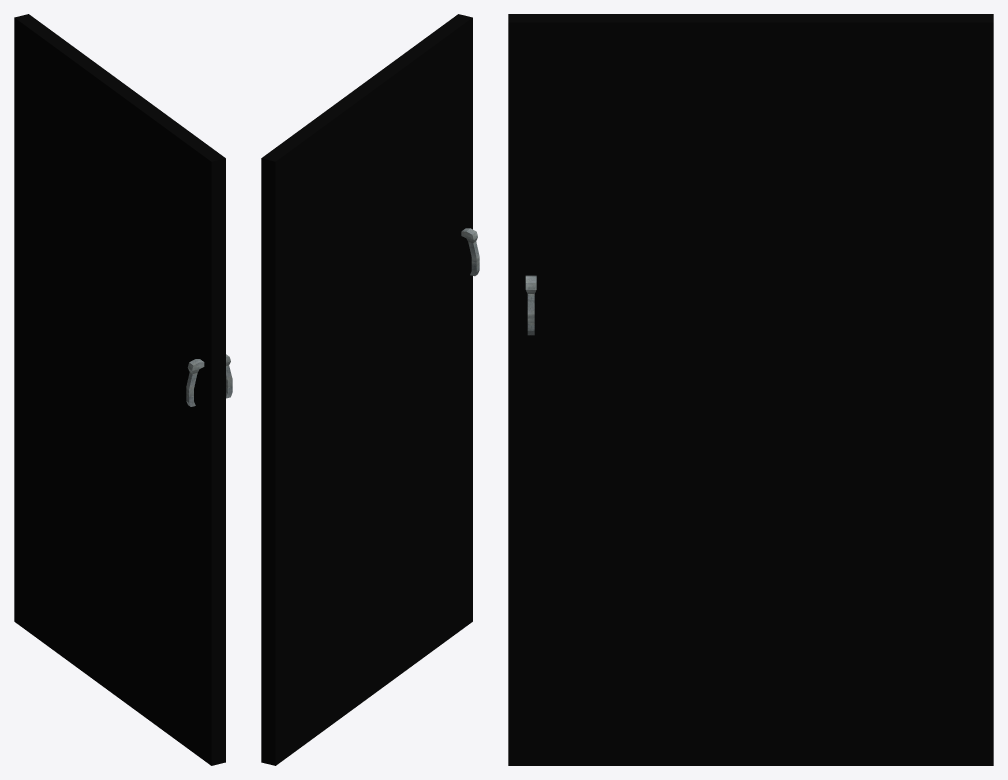
Rendered from ventana.FBX.
3 renders of one model, left to right at view 1: azimuth 30°, elevation 25°; view 2: azimuth 150°, elevation 25°; view 3: azimuth 270°, elevation 25°, orthographic. The views are drawn at different scales.
Parts seen in each view (by area): view 1: ventana; view 2: ventana; view 3: ventana.
Part boxes in pixels (x1,y1,x2,y2): ventana: [14, 14, 232, 765]; ventana: [261, 14, 479, 765]; ventana: [508, 14, 993, 765].
Bounding box in the file's own units: 5.94 × 78.74 × 46.57.
